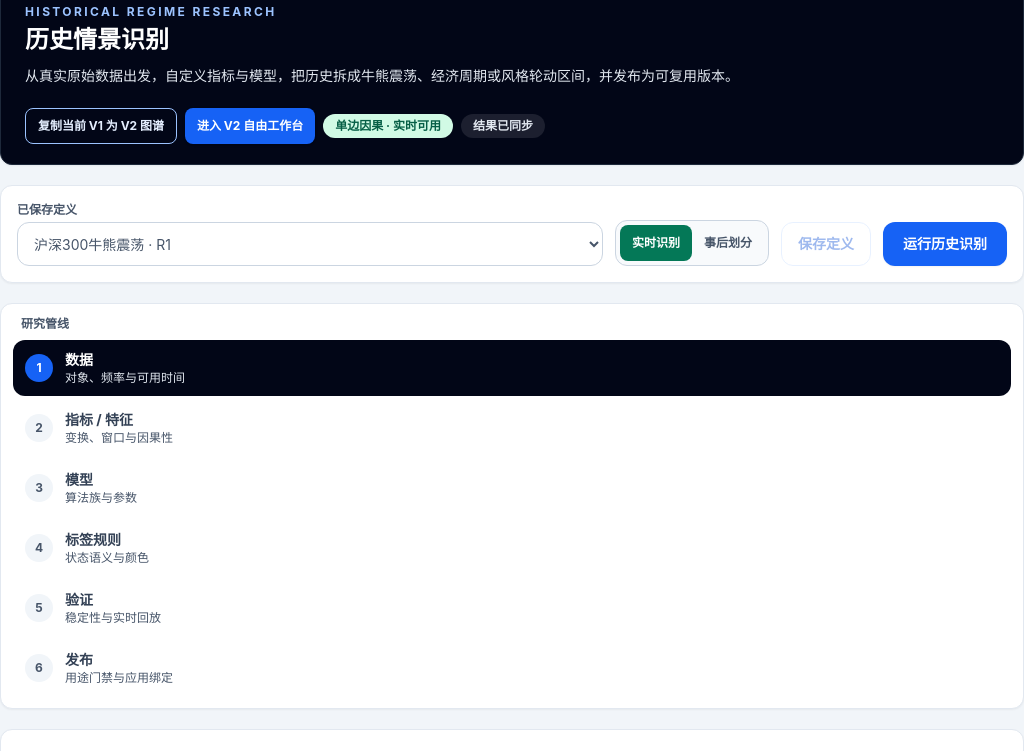
HistoricalRegimeCenter › 把公式或指标的 AST DAG 与固定签名 NJIT 计划可视化展示
The image size is (1024, 751).
Expected: the heading "历史情景识别" is shown, [25,25,169,54]
Click the button "运行历史识别": {"x": 945, "y": 244} [883,222,1007,266]
(page scrolled)
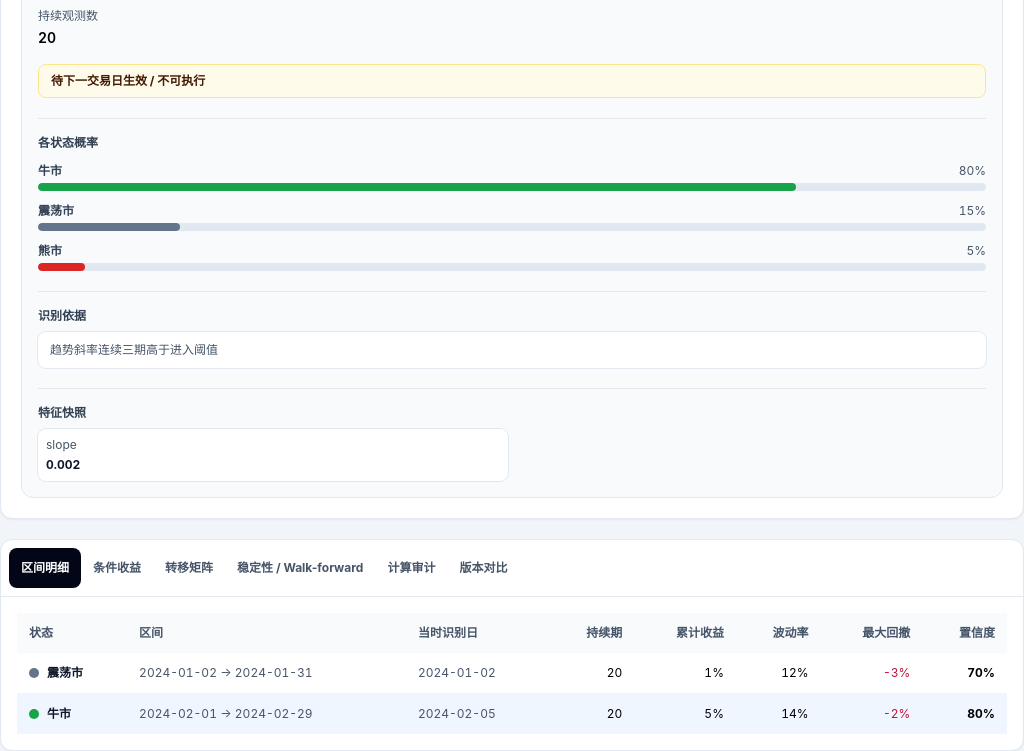
Click the tab "计算审计": {"x": 411, "y": 568} [375,548,447,588]
(page scrolled)
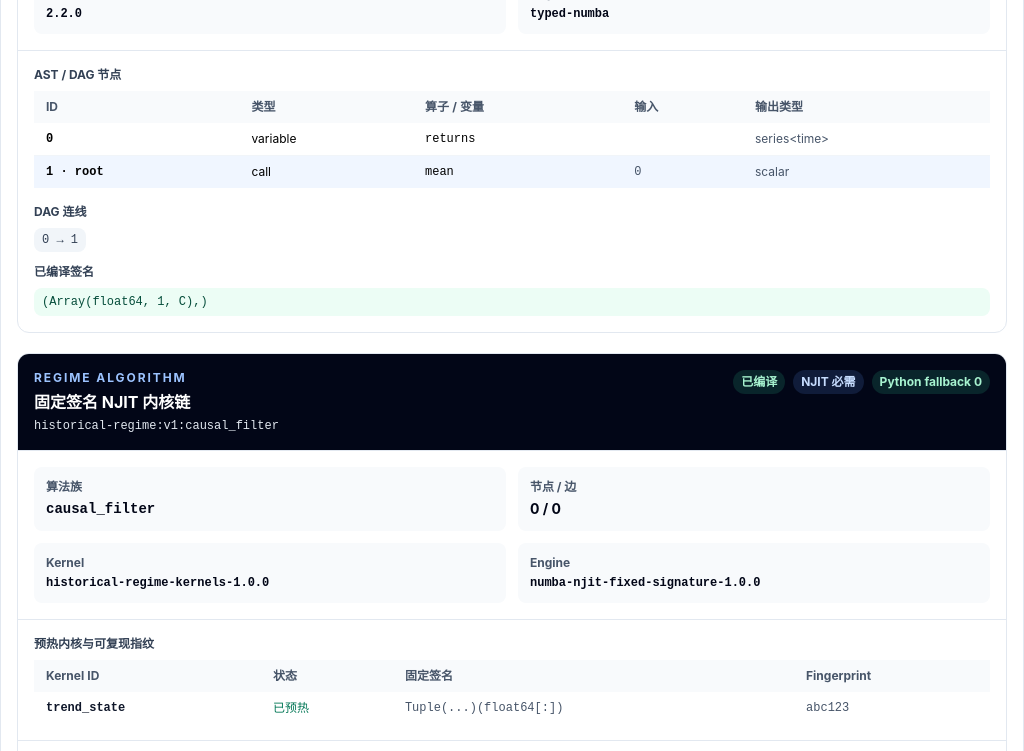
Expected: the element named "计算计划审计" shows "(Array(float64, 1, C),)", [42,295,208,309]
Expected: the element named "计算计划审计" shows "Regime algorithm", [34,370,187,385]
Expected: the element named "计算计划审计" shows "固定签名 NJIT 内核链", [34,392,190,412]
